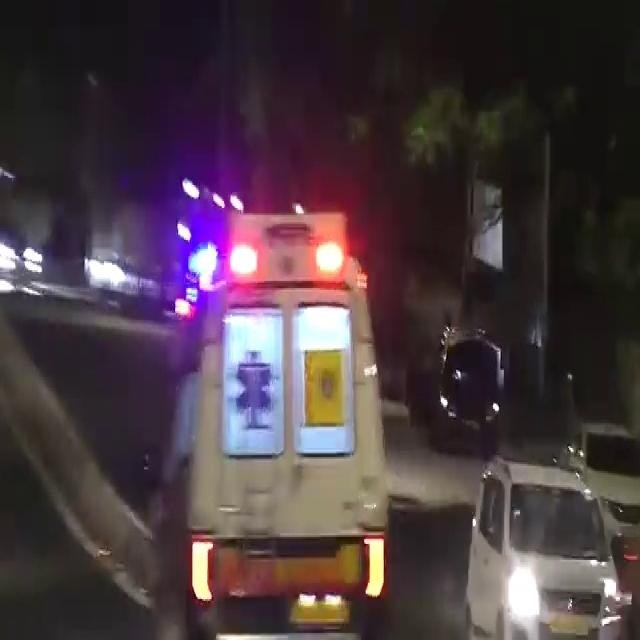ambulance: (183, 234, 441, 630)
